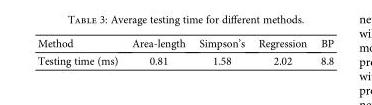table: (36, 36, 333, 66)
table column: (36, 36, 124, 66), (124, 36, 191, 66), (250, 36, 313, 66), (191, 36, 250, 66), (313, 36, 333, 66)
table column header: (36, 36, 333, 51)
table row: (36, 36, 333, 51), (36, 51, 333, 66)
